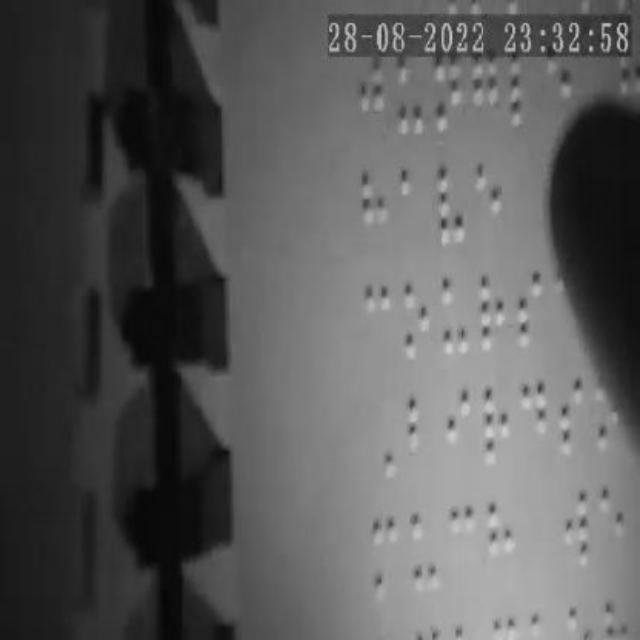braiile: (479, 382, 519, 476), (437, 158, 473, 254), (518, 375, 554, 471), (484, 496, 520, 592), (440, 274, 476, 368), (397, 157, 433, 250), (474, 156, 508, 254), (558, 482, 592, 580), (400, 274, 436, 364), (554, 376, 590, 466), (404, 395, 440, 485), (364, 513, 400, 603), (596, 480, 628, 580), (516, 265, 548, 361), (358, 160, 392, 250), (362, 273, 396, 363), (408, 509, 442, 599), (480, 272, 512, 364), (442, 386, 474, 478), (448, 496, 480, 586)
